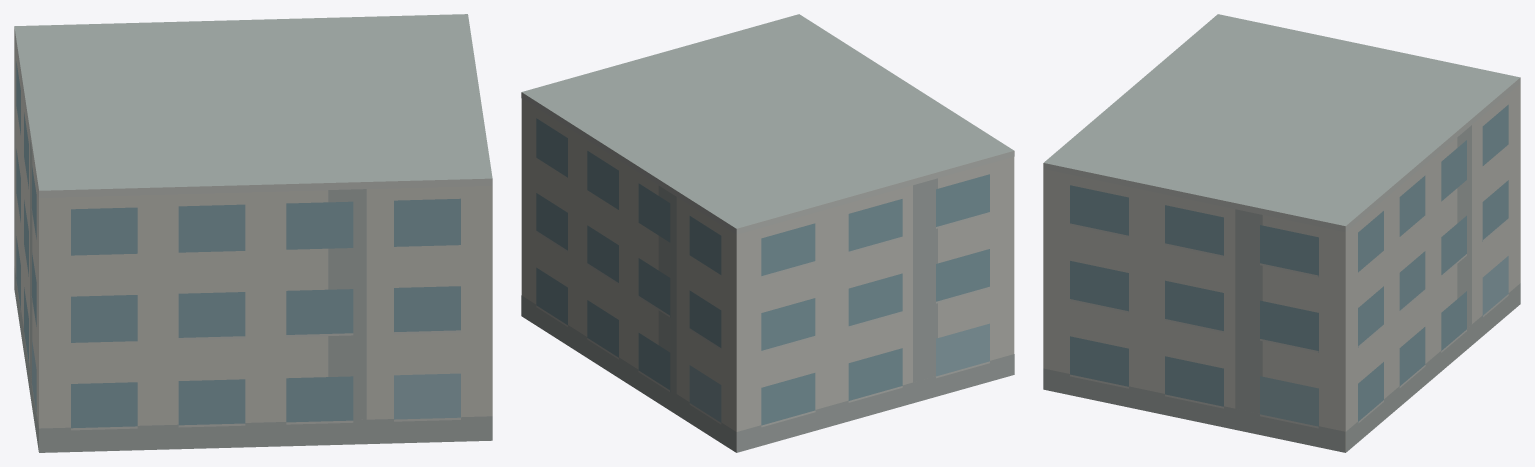
Rendered from residential-d9044c5e-834c-4ce0-9a71-707f70839417.glb.
The picture shows the model from 3 angles, left to right: view 1: azimuth 30°, elevation 25°; view 2: azimuth 150°, elevation 25°; view 3: azimuth 270°, elevation 25°; orthographic projection. The views are drawn at different scales.
Visible parts, largest first — view 1: residential-d9044c5e-834c-4ce0-9a71-707f70839417.tmp; view 2: residential-d9044c5e-834c-4ce0-9a71-707f70839417.tmp; view 3: residential-d9044c5e-834c-4ce0-9a71-707f70839417.tmp.
Part boxes in pixels (bbox=[...]): residential-d9044c5e-834c-4ce0-9a71-707f70839417.tmp: bbox=[14, 14, 492, 452]; residential-d9044c5e-834c-4ce0-9a71-707f70839417.tmp: bbox=[521, 14, 1014, 452]; residential-d9044c5e-834c-4ce0-9a71-707f70839417.tmp: bbox=[1043, 14, 1520, 452].
Size of the model in its own units: 18.08 by 9 by 17.18.
